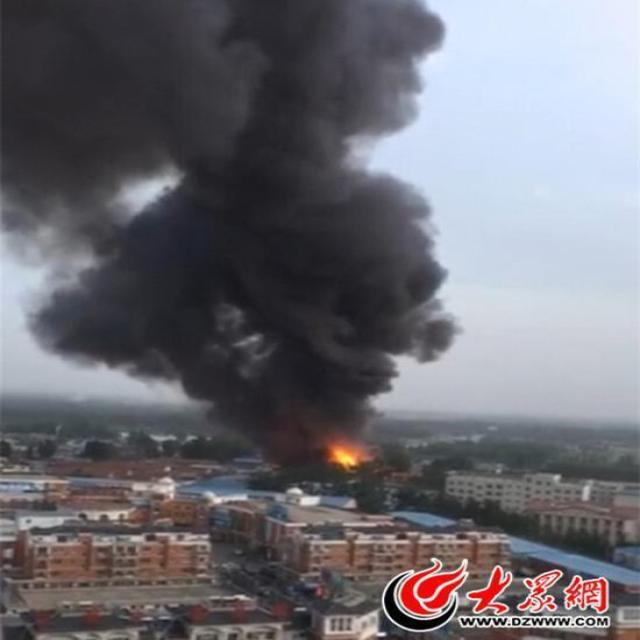fire: (325, 440, 363, 467)
smoke: (0, 0, 464, 446)
